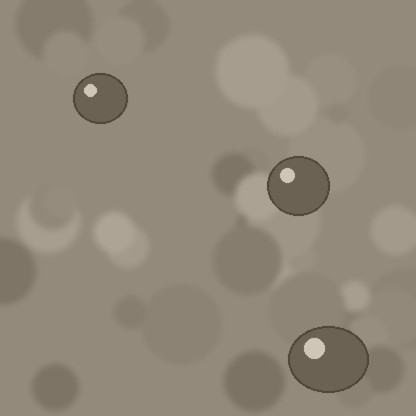gota: (288, 328, 368, 398), (267, 158, 329, 220), (73, 75, 127, 127)
